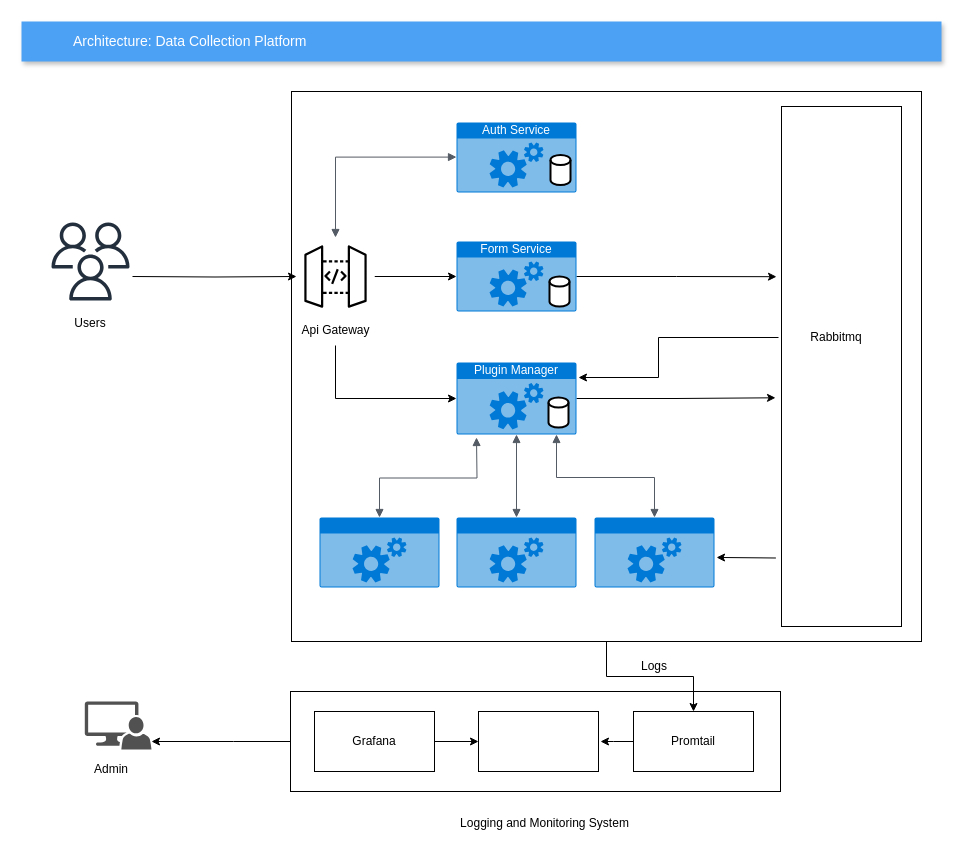
The diagram is 964 pixels wide and 855 high, and some of its shapes have lost their labels. The centre of each missing label's shape, as x and y in pixels:
Google Sheets: the point at 379,552
Loki: the point at 538,741
Slang Service: the point at 516,552
Sms Notifier: the point at 654,552
